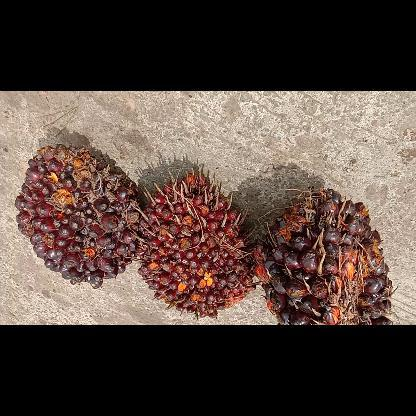Kurang masak: (15, 145, 140, 291), (141, 170, 255, 316)
TBS masak: (255, 188, 393, 324)
